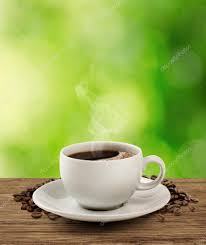cup: (53, 139, 174, 211)
